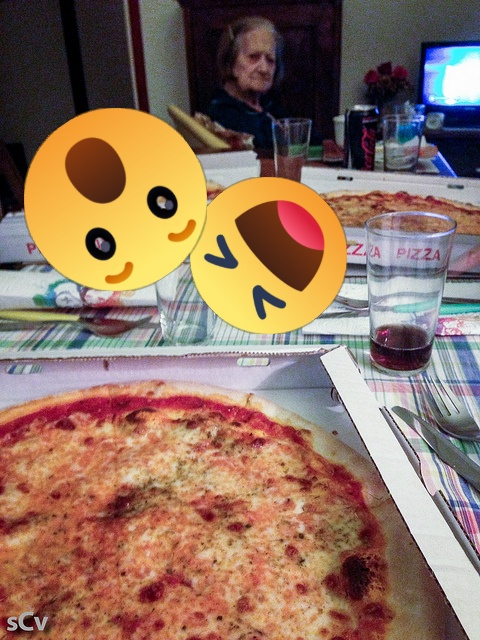haha: (190, 177, 347, 334)
wow: (24, 108, 207, 291)
